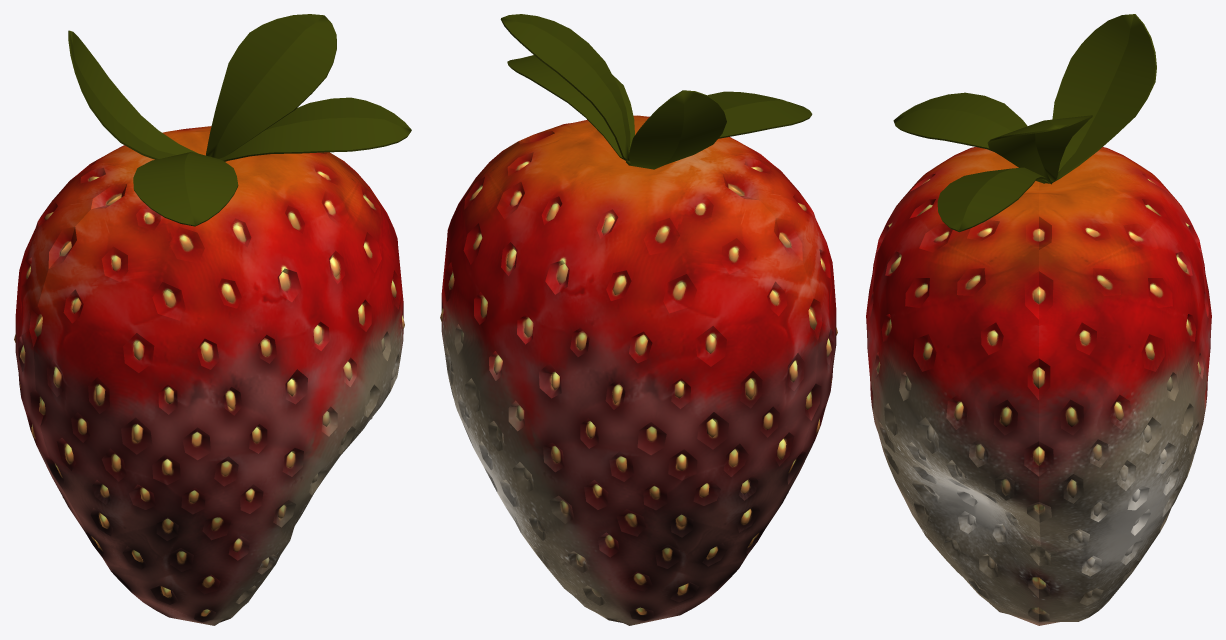
Rendered from mFraiseP1.FBX.
The picture shows the model from 3 angles, left to right: view 1: azimuth 30°, elevation 25°; view 2: azimuth 150°, elevation 25°; view 3: azimuth 270°, elevation 25°; orthographic projection. The views are drawn at different scales.
Parts seen in each view (by area): view 1: Fraise_Negatif_01_OUTLINE; view 2: Fraise_Negatif_01_OUTLINE; view 3: Fraise_Negatif_01_OUTLINE.
Boxes of the visible parts, x1,y1,x2,y2 form: Fraise_Negatif_01_OUTLINE: (14,14,411,625); Fraise_Negatif_01_OUTLINE: (440,14,837,625); Fraise_Negatif_01_OUTLINE: (866,14,1211,625).
Size of the model in its own units: 1.39 by 2.18 by 1.2.
